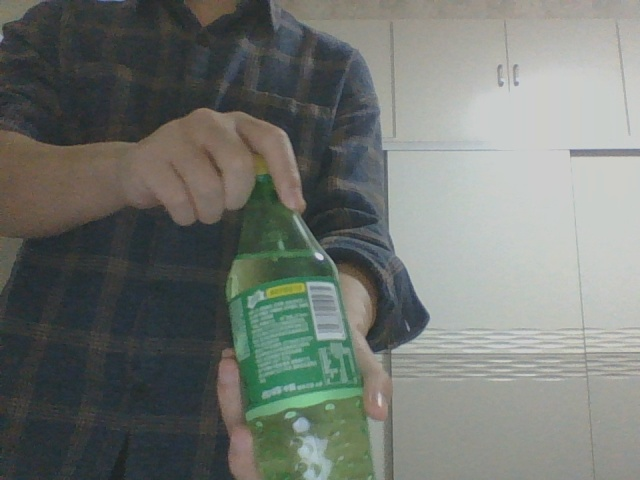Sprite: (222, 153, 377, 479)
